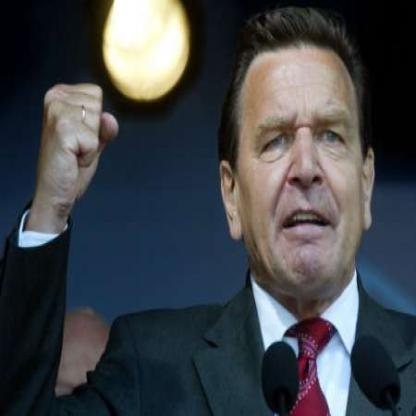face: (234, 10, 366, 300)
